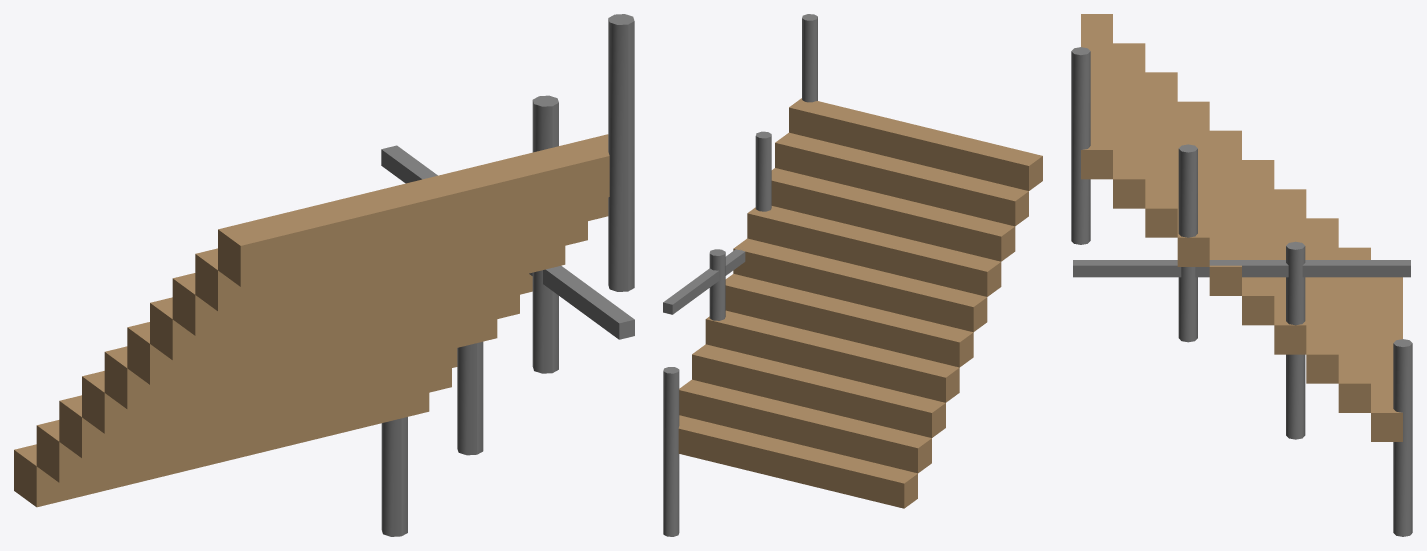
File: stairs.gltf
3 renders of one model, left to right at view 1: azimuth 30°, elevation 25°; view 2: azimuth 150°, elevation 25°; view 3: azimuth 270°, elevation 25°, orthographic. The views are drawn at different scales.
Parts seen in each view (by area): view 1: step_9, step_4, step_7, step_1, step_6, step_3, step_0, step_8, step_5, step_2, post_3, handrail (+3 smaller); view 2: step_2, step_8, step_1, step_9, step_6, step_3, step_4, step_5, step_7, step_0, post_0, handrail (+3 smaller); view 3: step_7, step_8, step_5, handrail, step_2, step_1, step_4, step_0, step_9, step_6, step_3, post_3 (+3 smaller).
Boxes of the visible parts, box(x1,y1,x2,y2) form: step_9: box(218, 134, 609, 286); step_4: box(104, 295, 519, 409); step_7: box(172, 221, 587, 335); step_1: box(36, 368, 451, 482); step_6: box(150, 246, 565, 360); step_3: box(82, 319, 497, 433); step_0: box(14, 393, 429, 507); step_8: box(195, 197, 608, 311); step_5: box(127, 273, 532, 384); step_2: box(59, 348, 457, 458); post_3: box(608, 14, 634, 291); handrail: box(381, 145, 634, 339); step_2: box(692, 344, 945, 437); step_8: box(775, 132, 1028, 226); step_1: box(679, 379, 931, 473); step_9: box(789, 98, 1042, 190); step_6: box(747, 206, 1001, 296); step_3: box(705, 310, 959, 402); step_4: box(725, 274, 973, 367); step_5: box(733, 238, 987, 332); step_7: box(771, 168, 1015, 261); step_0: box(678, 415, 917, 508); post_0: box(663, 367, 679, 536); handrail: box(663, 249, 745, 314); step_7: box(1145, 72, 1177, 237); step_8: box(1113, 43, 1145, 208); step_5: box(1209, 130, 1241, 295); handrail: box(1073, 260, 1410, 277); step_2: box(1306, 218, 1338, 383); step_1: box(1338, 247, 1370, 412); step_4: box(1242, 160, 1274, 325); step_0: box(1371, 277, 1402, 441); step_9: box(1081, 14, 1112, 179); step_6: box(1177, 101, 1209, 266); step_3: box(1274, 189, 1306, 354); post_3: box(1071, 47, 1090, 244).
Size of the model in its own units: 1 by 1.65 by 1.06.
